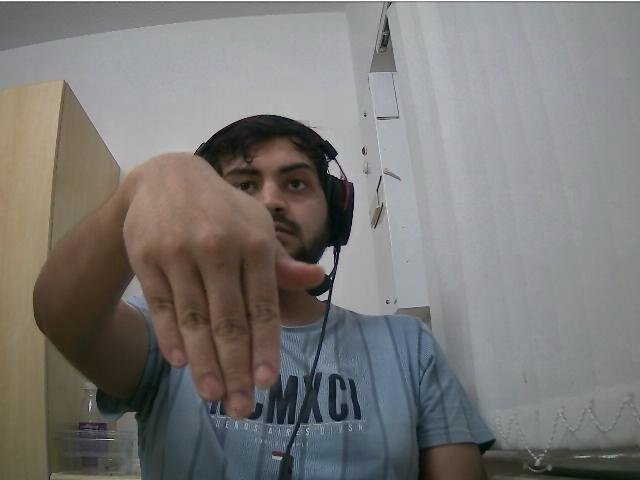down: (122, 151, 281, 420)
